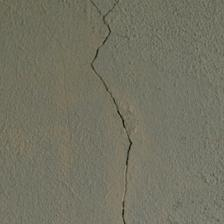Crack: (43, 2, 94, 220)
